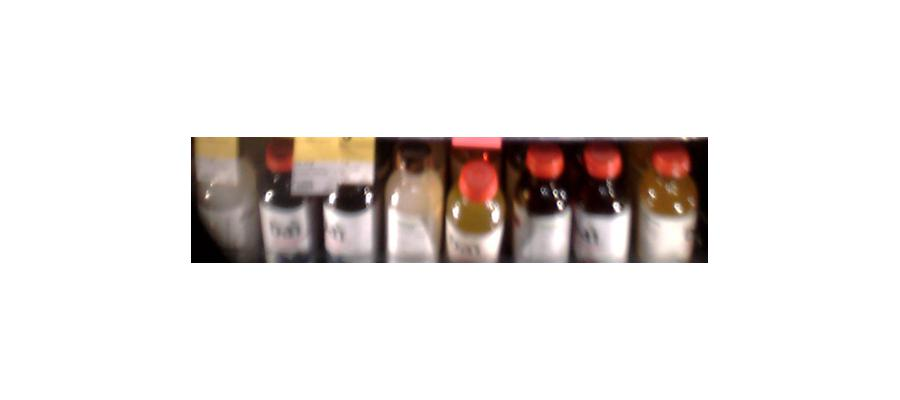bottle: (195, 133, 261, 255), (256, 143, 321, 260), (380, 141, 442, 262), (442, 160, 508, 263), (512, 148, 571, 262), (321, 154, 385, 259), (572, 148, 629, 263), (636, 150, 696, 257)
